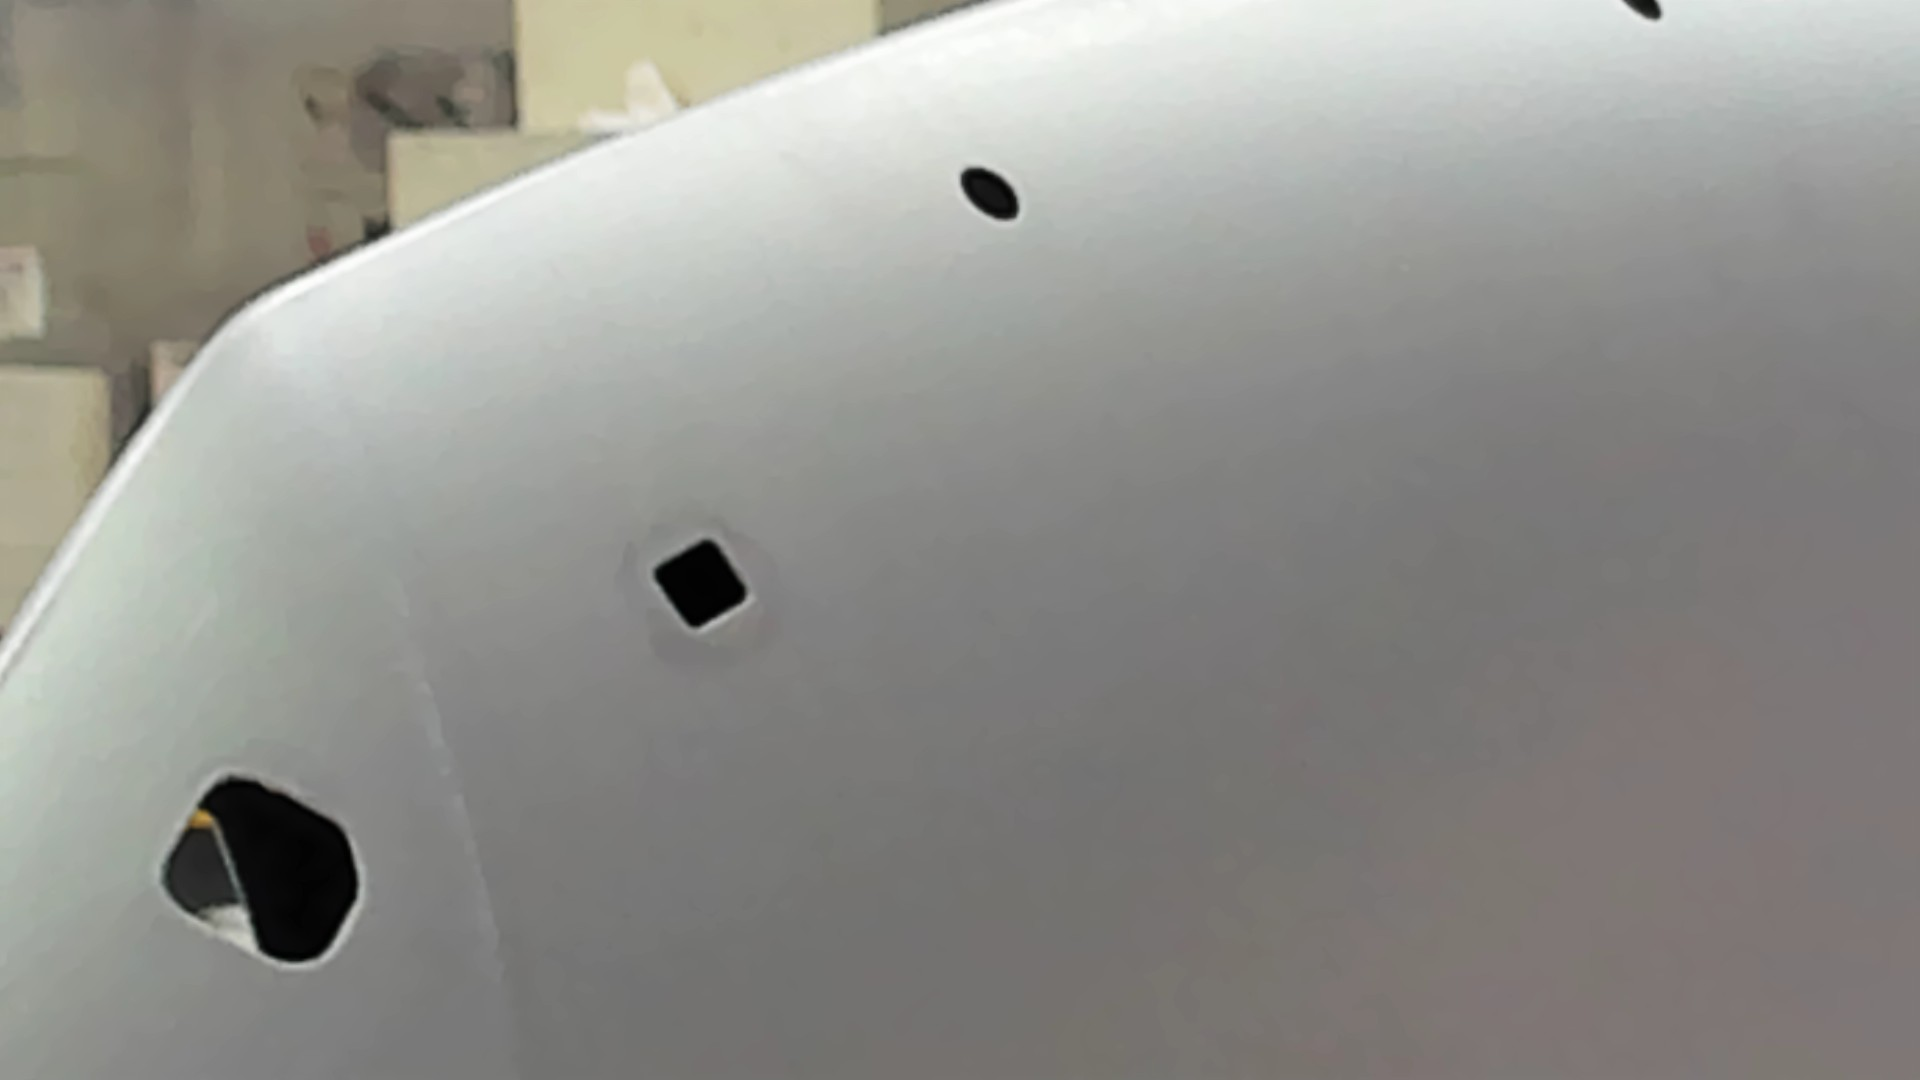chico: (960, 164, 1023, 228), (1619, 1, 1669, 28)
grande: (154, 765, 368, 978)
mediano: (644, 526, 757, 638)
